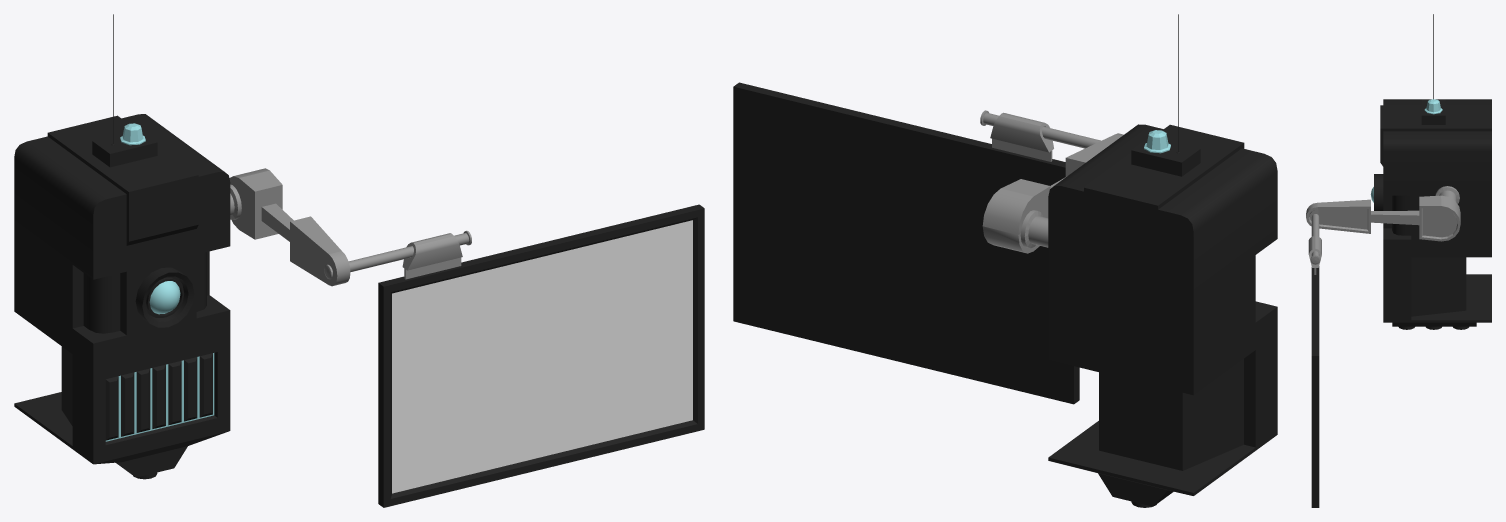
The model's file is UIRobot_low.FBX.
The picture shows the model from 3 angles, left to right: view 1: azimuth 30°, elevation 25°; view 2: azimuth 150°, elevation 25°; view 3: azimuth 270°, elevation 25°; orthographic projection. The views are drawn at different scales.
Visible parts, largest first — view 1: UIRobot_low, Screen_low, TV_low, Arm_low, Glow_low; view 2: TV_low, UIRobot_low, Arm_low; view 3: UIRobot_low, Arm_low, TV_low, Glow_low.
Part boxes in pixels (bbox=[...]): UIRobot_low: bbox=[14, 14, 230, 479]; Screen_low: bbox=[392, 220, 692, 493]; TV_low: bbox=[378, 204, 704, 507]; Arm_low: bbox=[229, 168, 471, 286]; Glow_low: bbox=[105, 123, 214, 441]; TV_low: bbox=[733, 82, 1079, 404]; UIRobot_low: bbox=[1048, 14, 1277, 507]; Arm_low: bbox=[980, 110, 1123, 253]; UIRobot_low: bbox=[1374, 14, 1491, 329]; Arm_low: bbox=[1306, 186, 1460, 274]; TV_low: bbox=[1311, 266, 1319, 507]; Glow_low: bbox=[1370, 99, 1442, 202].
Size of the model in its own units: 80.42 by 33.66 by 65.
